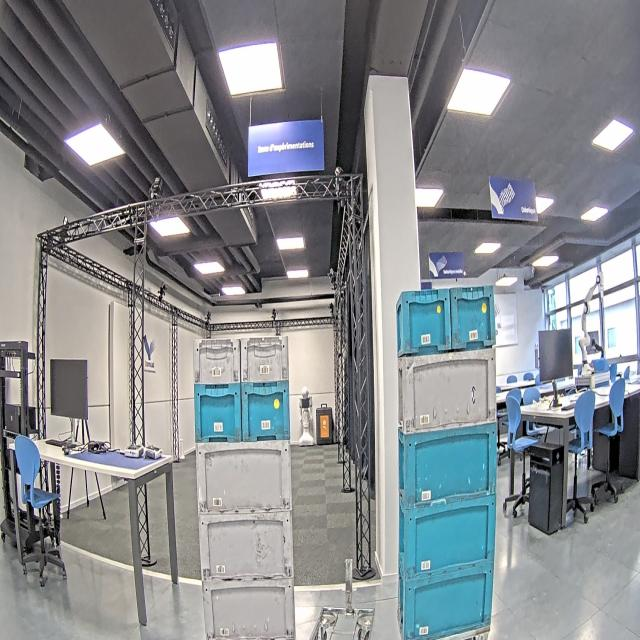Box4G: (397, 352, 497, 433), (195, 441, 294, 510), (200, 510, 294, 580), (201, 581, 293, 639)
Box8G: (242, 336, 290, 385), (194, 339, 242, 382)
BoxB4: (399, 424, 498, 506), (398, 497, 496, 568), (398, 568, 494, 637)
BoxB8: (394, 290, 454, 351), (193, 383, 242, 441), (453, 287, 497, 350), (242, 384, 291, 440)
